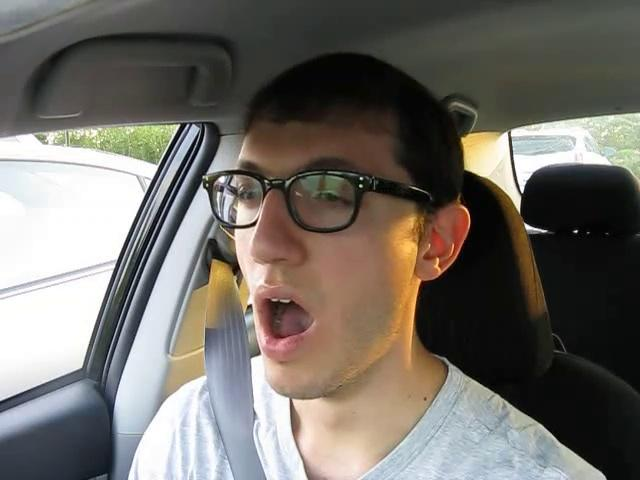close_eyeL: (218, 173, 281, 223)
close_eyeR: (290, 176, 365, 230)
yawn: (238, 283, 330, 361)
